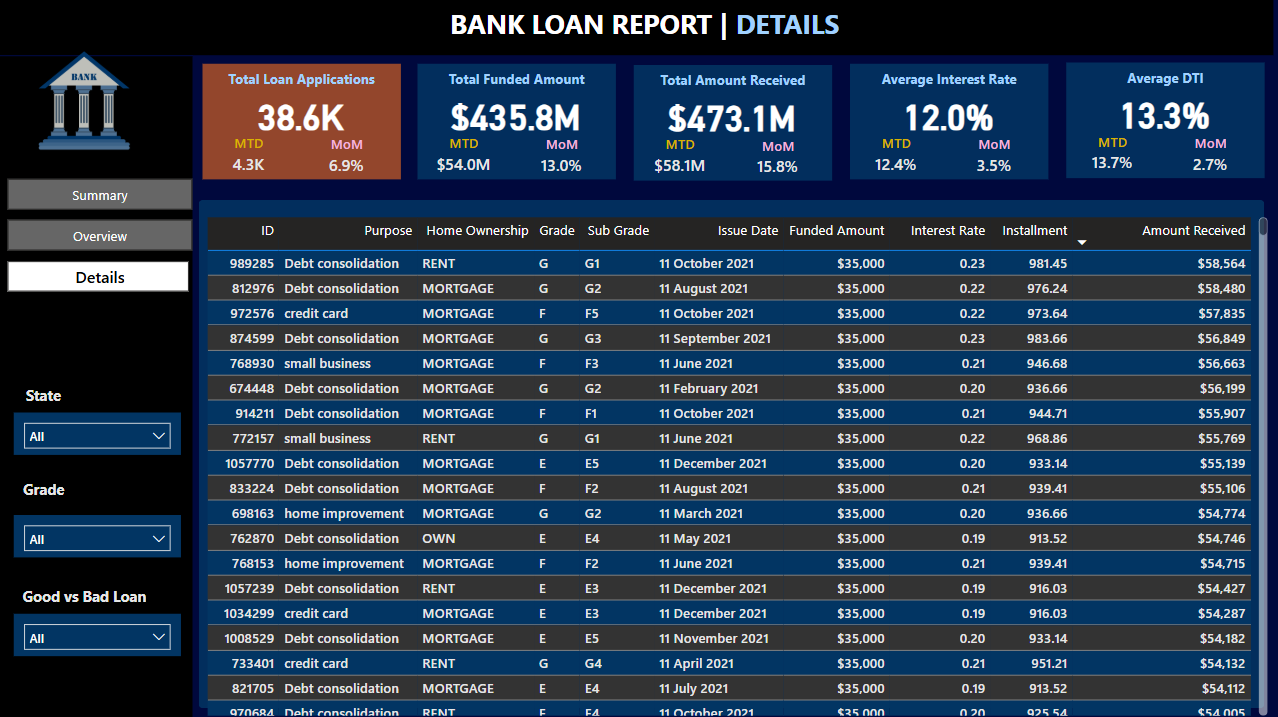

What the dashboard file says about the page in this screenshot:
{"tool":"powerbi","page":{"name":"Details","canvas":[1280,720],"ordinal":2},"visuals":[{"type":"shape","box":[0,0,1280,55.5],"z":0},{"type":"shape","box":[1065.4,62.1,198.6,115.7],"z":0,"group":"g5"},{"type":"shape","box":[201.8,63.3,198.6,115.7],"z":0,"group":"g1"},{"type":"shape","box":[417.4,63.3,198.6,115.7],"z":0,"group":"g2"},{"type":"shape","box":[849.4,63.3,198.6,115.7],"z":0,"group":"g4"},{"type":"shape","box":[633.4,64.6,198.6,115.7],"z":0,"group":"g3"},{"type":"shape","box":[0,56,192.5,663.9],"z":1000},{"type":"card","fields":{"Values":["bank_loan_data.Avg DTI"]},"box":[1064.6,92.6,198.6,41.4],"z":1000,"group":"g5"},{"type":"card","fields":{"Values":["bank_loan_data.Total Loan Applications"]},"box":[201,93.8,198.6,41.4],"z":1000,"group":"g1"},{"type":"card","fields":{"Values":["bank_loan_data.Total Funded Amount"]},"box":[416.6,93.8,198.6,41.4],"z":1000,"group":"g2"},{"type":"card","fields":{"Values":["bank_loan_data.Avg Interest Rate"]},"box":[848.6,93.8,198.6,41.4],"z":1000,"group":"g4"},{"type":"card","fields":{"Values":["bank_loan_data.Total Amount Received"]},"box":[632.6,95.1,198.6,41.4],"z":1000,"group":"g3"},{"type":"textbox","box":[444.6,0,448.3,47.5],"z":2000},{"type":"textbox","box":[1065.4,63,198.6,32.9],"z":2000,"group":"g5"},{"type":"textbox","box":[201.8,64.2,198.6,32.9],"z":2000,"group":"g1"},{"type":"textbox","box":[417.4,64.2,198.6,32.9],"z":2000,"group":"g2"},{"type":"textbox","box":[849.4,64.2,198.6,32.9],"z":2000,"group":"g4"},{"type":"textbox","box":[633.4,65.5,198.6,32.9],"z":2000,"group":"g3"},{"type":"group","id":"g1","title":"Group 1","box":[201,63.3,199.3,115.7],"z":3000},{"type":"card","title":"MTD","fields":{"Values":["bank_loan_data.MTD Avg DTI"]},"box":[1071.9,132.3,80.4,43.9],"z":3000,"group":"g5"},{"type":"card","title":"MTD","fields":{"Values":["bank_loan_data.MTD Loan Applications"]},"box":[208.3,133.5,80.4,43.9],"z":3000,"group":"g1"},{"type":"card","title":"MTD","fields":{"Values":["bank_loan_data.MTD Funded Amount"]},"box":[423.9,133.5,80.4,43.9],"z":3000,"group":"g2"},{"type":"card","title":"MTD","fields":{"Values":["bank_loan_data.MTD Avg Int Rate"]},"box":[855.9,133.5,80.4,43.9],"z":3000,"group":"g4"},{"type":"card","title":"MTD","fields":{"Values":["bank_loan_data.MTD Total Amount Received"]},"box":[639.9,134.8,80.4,43.9],"z":3000,"group":"g3"},{"type":"group","id":"g2","title":"Group 1","box":[416.6,63.3,199.8,115.7],"z":4000},{"type":"card","title":"MoM","fields":{"Values":["bank_loan_data.MoM Avg DTI"]},"box":[1165.7,133.9,88.9,43.9],"z":4000,"group":"g5"},{"type":"card","title":"MoM","fields":{"Values":["bank_loan_data.MoM Loan Application"]},"box":[302.1,135.1,88.9,43.9],"z":4000,"group":"g1"},{"type":"card","title":"MoM","fields":{"Values":["bank_loan_data.MoM Total Funded Amount"]},"box":[517.7,135.1,88.9,43.9],"z":4000,"group":"g2"},{"type":"card","title":"MoM","fields":{"Values":["bank_loan_data.MoM Avg Int Rate"]},"box":[949.7,135.1,88.9,43.9],"z":4000,"group":"g4"},{"type":"card","title":"MoM","fields":{"Values":["bank_loan_data.MoM Total Amount Received"]},"box":[733.7,136.4,88.9,43.9],"z":4000,"group":"g3"},{"type":"group","id":"g3","title":"Group 1","box":[632.6,64.6,199.8,115.7],"z":5000},{"type":"group","id":"g4","title":"Group 1","box":[848.6,63.3,199.8,115.7],"z":6000},{"type":"group","id":"g5","title":"Group 1","box":[1064.6,62.1,199.8,115.7],"z":7000},{"type":"slicer","fields":{"Values":["bank_loan_data.address_state"]},"box":[13.4,412.9,166.9,42.6],"z":8000},{"type":"textbox","box":[13.3,380,59.1,32.6],"z":9000},{"type":"slicer","fields":{"Values":["bank_loan_data.grade"]},"box":[13.4,515.3,166.9,42.6],"z":10000},{"type":"textbox","box":[13.4,473.8,59.7,41.4],"z":11000},{"type":"slicer","fields":{"Values":["bank_loan_data.Good vs Bad Loan"]},"box":[13.4,613.9,166.9,42.6],"z":12000},{"type":"textbox","box":[13.3,581.5,141.2,32.6],"z":13000},{"type":"shape","box":[199.1,200.3,1065.3,507.9],"z":14000},{"type":"tableEx","fields":{"Values":["bank_loan_data.id","bank_loan_data.purpose","bank_loan_data.home_ownership","bank_loan_data.grade","bank_loan_data.sub_grade","bank_loan_data.issue_date","bank_loan_data.Total Funded Amount","Sum(bank_loan_data.int_rate)","Sum(bank_loan_data.installment)","bank_loan_data.Total Amount Received"]},"box":[201.5,212.3,1071.3,507.9],"z":17001},{"type":"image","box":[13.3,27.7,141.2,146],"z":17002},{"type":"pageNavigator","box":[7.2,178.6,185.8,114.6],"z":17003}]}

Visuals, with their boxes in screenshot pixels (x1, y1, x2, y2), scaled from the page's 1280x720 canvas onto the 1278x717 screenshot:
shape: {"x1": 0, "y1": 0, "x2": 1277, "y2": 55}
shape: {"x1": 1064, "y1": 62, "x2": 1262, "y2": 177}
shape: {"x1": 201, "y1": 63, "x2": 400, "y2": 178}
shape: {"x1": 417, "y1": 63, "x2": 615, "y2": 178}
shape: {"x1": 848, "y1": 63, "x2": 1046, "y2": 178}
shape: {"x1": 632, "y1": 64, "x2": 831, "y2": 180}
shape: {"x1": 0, "y1": 56, "x2": 192, "y2": 716}
card - bank_loan_data.Avg DTI: {"x1": 1063, "y1": 92, "x2": 1261, "y2": 133}
card - bank_loan_data.Total Loan Applications: {"x1": 201, "y1": 93, "x2": 399, "y2": 135}
card - bank_loan_data.Total Funded Amount: {"x1": 416, "y1": 93, "x2": 614, "y2": 135}
card - bank_loan_data.Avg Interest Rate: {"x1": 847, "y1": 93, "x2": 1046, "y2": 135}
card - bank_loan_data.Total Amount Received: {"x1": 632, "y1": 95, "x2": 830, "y2": 136}
textbox: {"x1": 444, "y1": 0, "x2": 892, "y2": 47}
textbox: {"x1": 1064, "y1": 63, "x2": 1262, "y2": 96}
textbox: {"x1": 201, "y1": 64, "x2": 400, "y2": 97}
textbox: {"x1": 417, "y1": 64, "x2": 615, "y2": 97}
textbox: {"x1": 848, "y1": 64, "x2": 1046, "y2": 97}
textbox: {"x1": 632, "y1": 65, "x2": 831, "y2": 98}
"Group 1" group: {"x1": 201, "y1": 63, "x2": 400, "y2": 178}
"MTD" card: {"x1": 1070, "y1": 132, "x2": 1150, "y2": 175}
"MTD" card: {"x1": 208, "y1": 133, "x2": 288, "y2": 177}
"MTD" card: {"x1": 423, "y1": 133, "x2": 504, "y2": 177}
"MTD" card: {"x1": 855, "y1": 133, "x2": 935, "y2": 177}
"MTD" card: {"x1": 639, "y1": 134, "x2": 719, "y2": 178}
"Group 1" group: {"x1": 416, "y1": 63, "x2": 615, "y2": 178}
"MoM" card: {"x1": 1164, "y1": 133, "x2": 1253, "y2": 177}
"MoM" card: {"x1": 302, "y1": 135, "x2": 390, "y2": 178}
"MoM" card: {"x1": 517, "y1": 135, "x2": 606, "y2": 178}
"MoM" card: {"x1": 948, "y1": 135, "x2": 1037, "y2": 178}
"MoM" card: {"x1": 733, "y1": 136, "x2": 821, "y2": 180}
"Group 1" group: {"x1": 632, "y1": 64, "x2": 831, "y2": 180}
"Group 1" group: {"x1": 847, "y1": 63, "x2": 1047, "y2": 178}
"Group 1" group: {"x1": 1063, "y1": 62, "x2": 1262, "y2": 177}
slicer - bank_loan_data.address_state: {"x1": 13, "y1": 411, "x2": 180, "y2": 454}
textbox: {"x1": 13, "y1": 378, "x2": 72, "y2": 411}
slicer - bank_loan_data.grade: {"x1": 13, "y1": 513, "x2": 180, "y2": 556}
textbox: {"x1": 13, "y1": 472, "x2": 73, "y2": 513}
slicer - bank_loan_data.Good vs Bad Loan: {"x1": 13, "y1": 611, "x2": 180, "y2": 654}
textbox: {"x1": 13, "y1": 579, "x2": 154, "y2": 612}
shape: {"x1": 199, "y1": 199, "x2": 1262, "y2": 705}
tableEx - bank_loan_data.id x bank_loan_data.purpose: {"x1": 201, "y1": 211, "x2": 1271, "y2": 716}
image: {"x1": 13, "y1": 28, "x2": 154, "y2": 173}
pageNavigator: {"x1": 7, "y1": 178, "x2": 193, "y2": 292}
